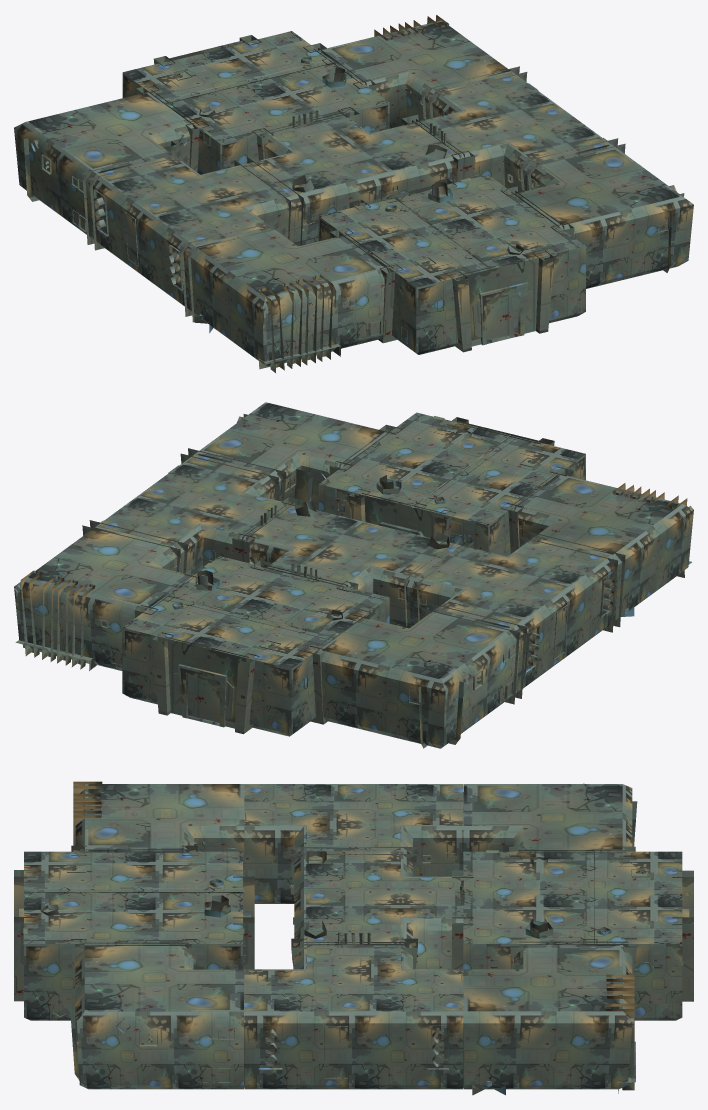
The model's file is Combined_Mesh_root_scene__22_9f3a19a4__zombies2_diffuse_02_6de118bf_c1f257.obj.
The picture shows the model from 3 angles, top to bottom: view 1: azimuth 30°, elevation 25°; view 2: azimuth 150°, elevation 25°; view 3: azimuth 270°, elevation 25°; orthographic projection. The views are drawn at different scales.
Size of the model in its own units: 52.07 by 9.64 by 62.1.
147 materials, 147 textured.
